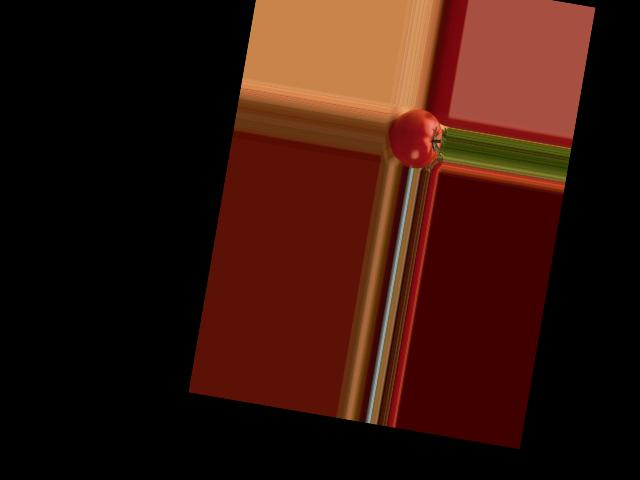tomato: (385, 105, 446, 171)
